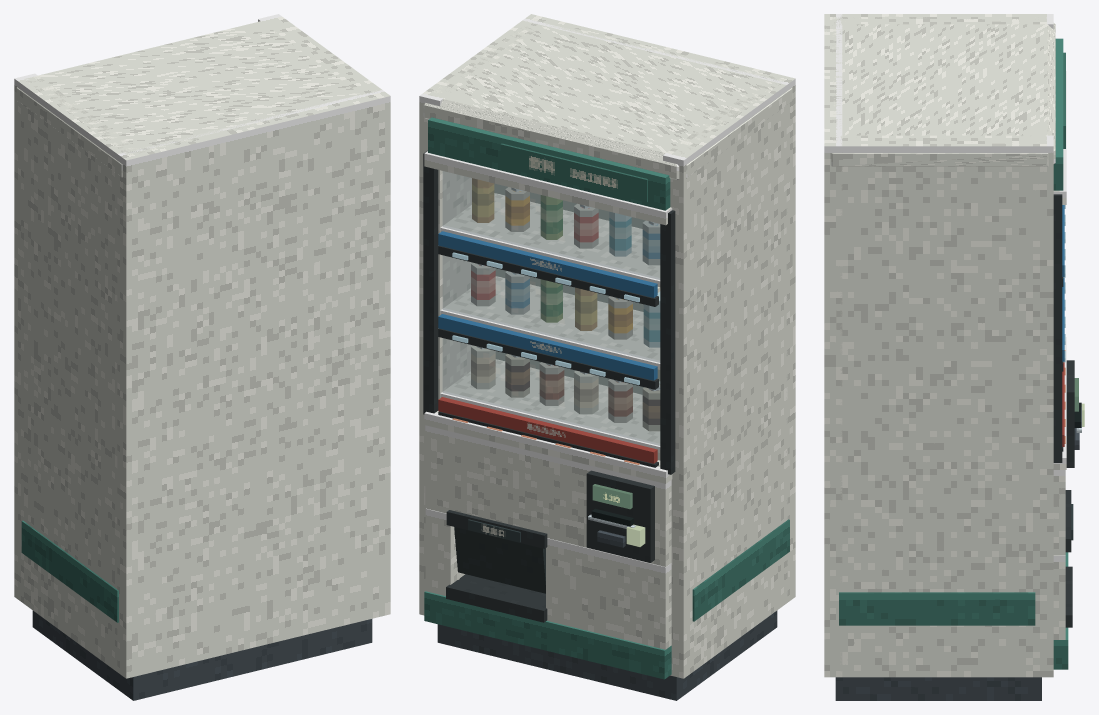
Rendered from f_vending_c_networked.glb.
3 renders of one model, left to right at view 1: azimuth 30°, elevation 25°; view 2: azimuth 150°, elevation 25°; view 3: azimuth 270°, elevation 25°, orthographic. The views are drawn at different scales.
Visible parts, largest first — view 1: block_enamel-back, block_enamel-side (×2), block_rounded-enamel-cap, block_recessed-kickplate, block_painted-side-stripe; view 2: block_enamel-side (×2), block_sample-glazing (×3), block_rounded-enamel-cap, block_lower-service-panel, block_right-lower-return, block_display-rebate (×2), block_painted-bottom-band, block_enamel-back, block_recessed-kickplate, block_sample-shelf-0, block_sample-shelf-1, block_sample-shelf-2 (+38 smaller); view 3: block_enamel-side (×2), block_rounded-enamel-cap, block_enamel-back, block_painted-side-stripe, block_recessed-kickplate, block_display-rebate, block_header-colour-band, block_lower-service-panel, block_left-lower-return, block_payment-face, block_painted-bottom-band, block_retrieval-frame-bottom (+2 smaller).
Boxes of the visible parts, <box> form: block_enamel-back: <box>117,90,390,678</box>; block_enamel-side (×2): <box>14,14,381,671</box>; block_rounded-enamel-cap: <box>16,21,374,177</box>; block_recessed-kickplate: <box>32,610,372,700</box>; block_painted-side-stripe: <box>21,520,118,622</box>; block_enamel-side (×2): <box>419,20,787,678</box>; block_sample-glazing (×3): <box>442,171,660,445</box>; block_rounded-enamel-cap: <box>423,19,792,179</box>; block_lower-service-panel: <box>425,425,671,566</box>; block_right-lower-return: <box>546,538,671,649</box>; block_display-rebate (×2): <box>423,150,675,474</box>; block_painted-bottom-band: <box>424,591,671,679</box>; block_enamel-back: <box>522,14,795,602</box>; block_recessed-kickplate: <box>437,610,777,700</box>; block_sample-shelf-0: <box>440,193,660,286</box>; block_sample-shelf-1: <box>440,276,660,369</box>; block_sample-shelf-2: <box>440,359,660,452</box>; block_enamel-side (×2): <box>840,14,1053,677</box>; block_rounded-enamel-cap: <box>831,17,1055,166</box>; block_enamel-back: <box>824,14,842,677</box>; block_painted-side-stripe: <box>839,592,1035,625</box>; block_recessed-kickplate: <box>835,677,1041,700</box>; block_display-rebate: <box>1053,194,1062,462</box>; block_header-colour-band: <box>1053,38,1063,190</box>; block_lower-service-panel: <box>1053,470,1065,555</box>; block_left-lower-return: <box>1053,555,1065,639</box>; block_payment-face: <box>1066,360,1074,467</box>; block_painted-bottom-band: <box>1053,552,1068,669</box>; block_retrieval-frame-bottom: <box>1065,566,1072,627</box>.
Bounding box in the file's own units: 0.951 × 1.86 × 0.783.
Materials: 3 (3 with a texture image).
